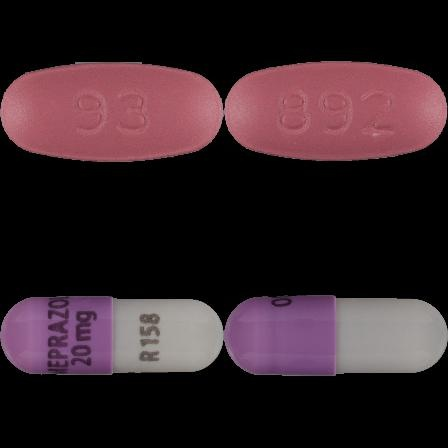42254-052: (0, 0, 224, 224)
